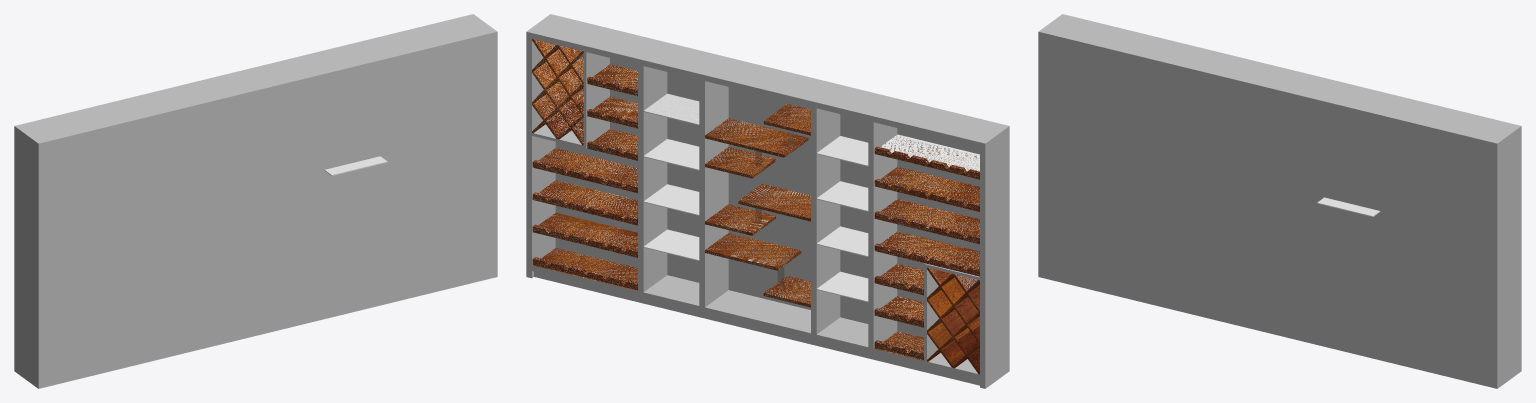
The picture shows the model from 3 angles, left to right: view 1: azimuth 30°, elevation 25°; view 2: azimuth 150°, elevation 25°; view 3: azimuth 330°, elevation 25°; orthographic projection.
Visible parts, largest first — view 1: mesh48_mesh48-geometry, mesh2_mesh2-geometry; view 2: mesh48_mesh48-geometry, mesh13_mesh13-geometry, mesh9_mesh9-geometry, mesh31_mesh31-geometry, mesh35_mesh35-geometry, mesh21_mesh21-geometry, mesh17_mesh17-geometry, mesh20_mesh20-geometry, mesh23_mesh23-geometry, mesh22_mesh22-geometry, mesh15_mesh15-geometry, mesh16_mesh16-geometry (+32 smaller); view 3: mesh48_mesh48-geometry, mesh2_mesh2-geometry.
Part boxes in pixels (x1,y1,x2,y2): mesh48_mesh48-geometry: (14,14,497,388); mesh2_mesh2-geometry: (324,156,387,175); mesh48_mesh48-geometry: (526,14,1009,388); mesh13_mesh13-geometry: (927,267,979,374); mesh9_mesh9-geometry: (532,39,583,145); mesh31_mesh31-geometry: (705,118,808,157); mesh35_mesh35-geometry: (705,233,801,270); mesh21_mesh21-geometry: (880,166,979,203); mesh17_mesh17-geometry: (538,212,637,249); mesh20_mesh20-geometry: (880,134,979,171); mesh23_mesh23-geometry: (880,231,979,268); mesh22_mesh22-geometry: (880,199,979,235); mesh15_mesh15-geometry: (538,148,637,184); mesh16_mesh16-geometry: (539,180,637,217); mesh48_mesh48-geometry: (1038,14,1521,388); mesh2_mesh2-geometry: (1317,197,1380,216).
Bounding box in the file's own units: 0.7116 × 0.3633 × 0.0843.
